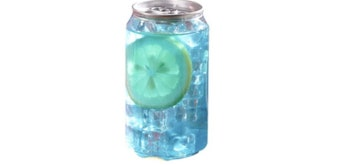paper: (123, 0, 210, 161)
